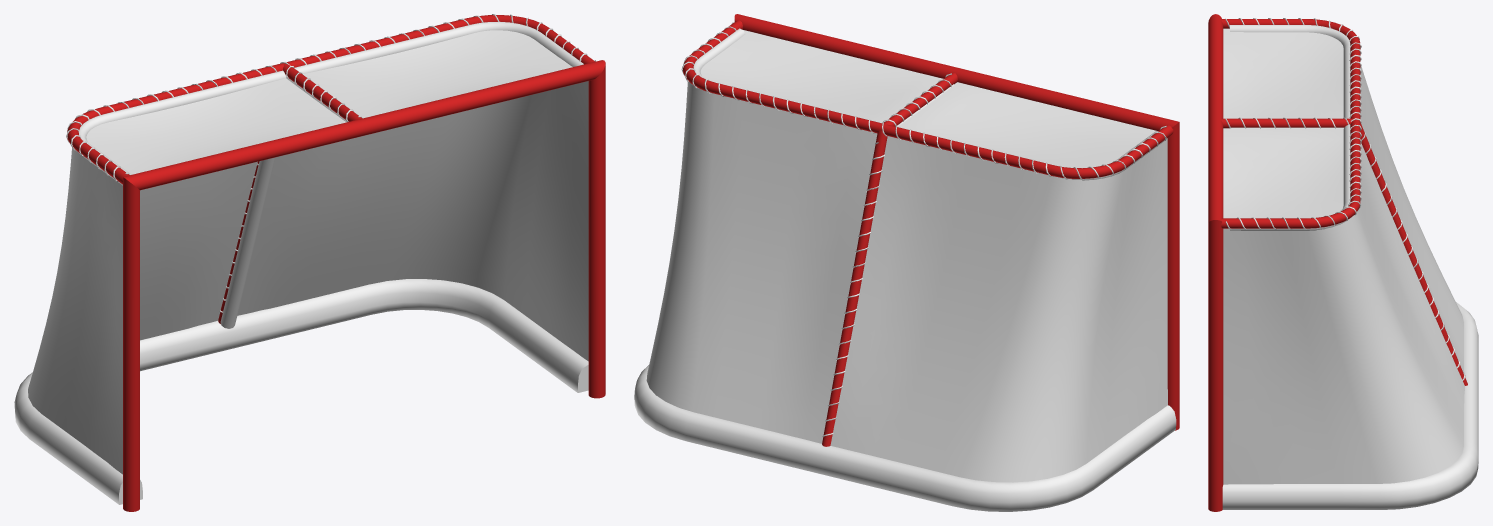
The model's file is net.glb.
The picture shows the model from 3 angles, left to right: view 1: azimuth 30°, elevation 25°; view 2: azimuth 150°, elevation 25°; view 3: azimuth 270°, elevation 25°; orthographic projection. The views are drawn at different scales.
Parts seen in each view (by area): view 1: net_mesh, net_frame; view 2: net_mesh, net_frame; view 3: net_mesh, net_frame.
Boxes of the visible parts, x1,y1,x2,y2 form: net_mesh: (28, 30, 588, 474); net_frame: (14, 14, 605, 511); net_mesh: (646, 29, 1167, 482); net_frame: (634, 14, 1179, 511); net_mesh: (1223, 28, 1464, 484); net_frame: (1208, 14, 1478, 511).
Bounding box in the file's own units: 1.96 × 1.29 × 1.08.
